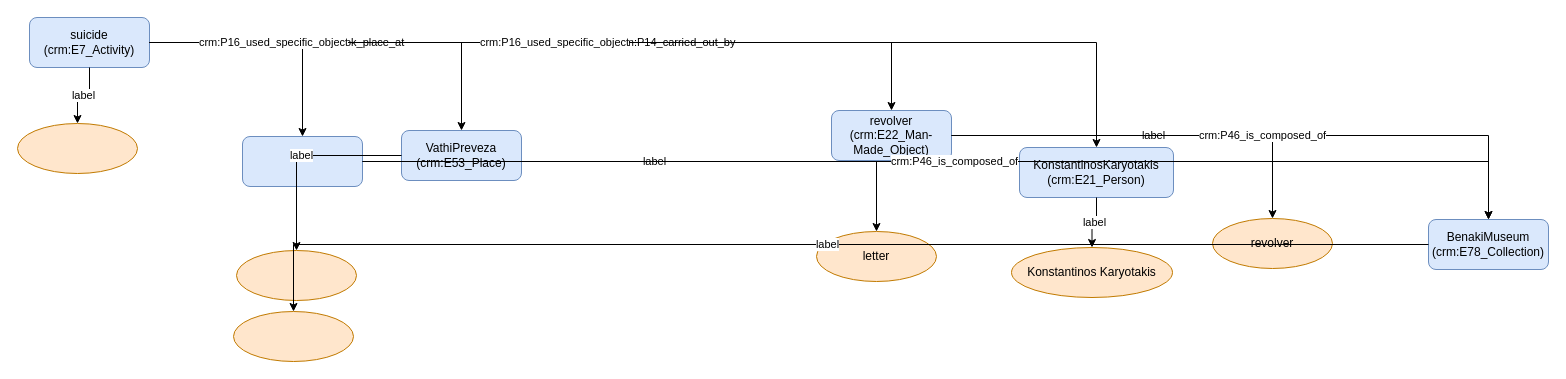
Some shapes in this 1566 by 379 pixel diagram are drawn without their labels. Each missing label, with the centre of its shape:
"Benaki Museum" goes at [293,336].
"letter (crm:E22_Man-Made_Object)" goes at [302,161].
"suicide" goes at [77,148].
"Vathi, Preveza" goes at [296,275].
